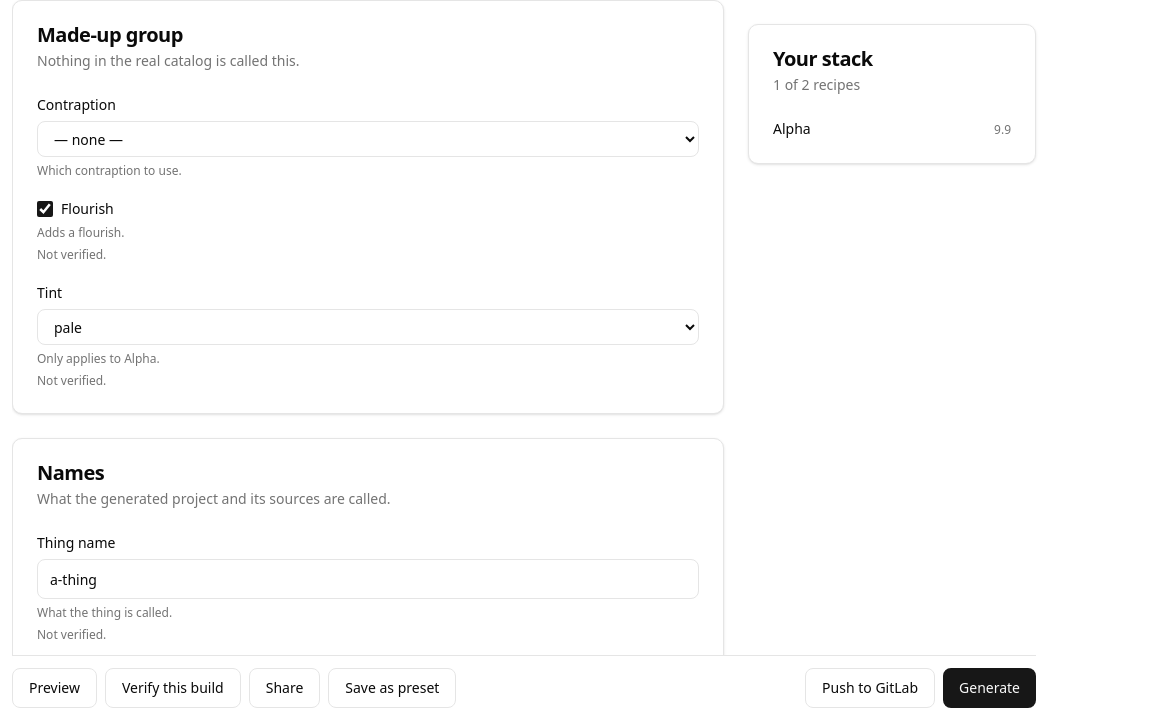
Test case: Wizard › shows the server's hint when a download is refused, rather than failing silently
This screenshot has width=1164, height=720.
Expected: the text "Alpha" is shown, [773,119,811,139]
What coordinates should you click on to do the following:
click the button "Generate"
I would click on:
 (990, 688)
Its box is [943,668,1036,708].
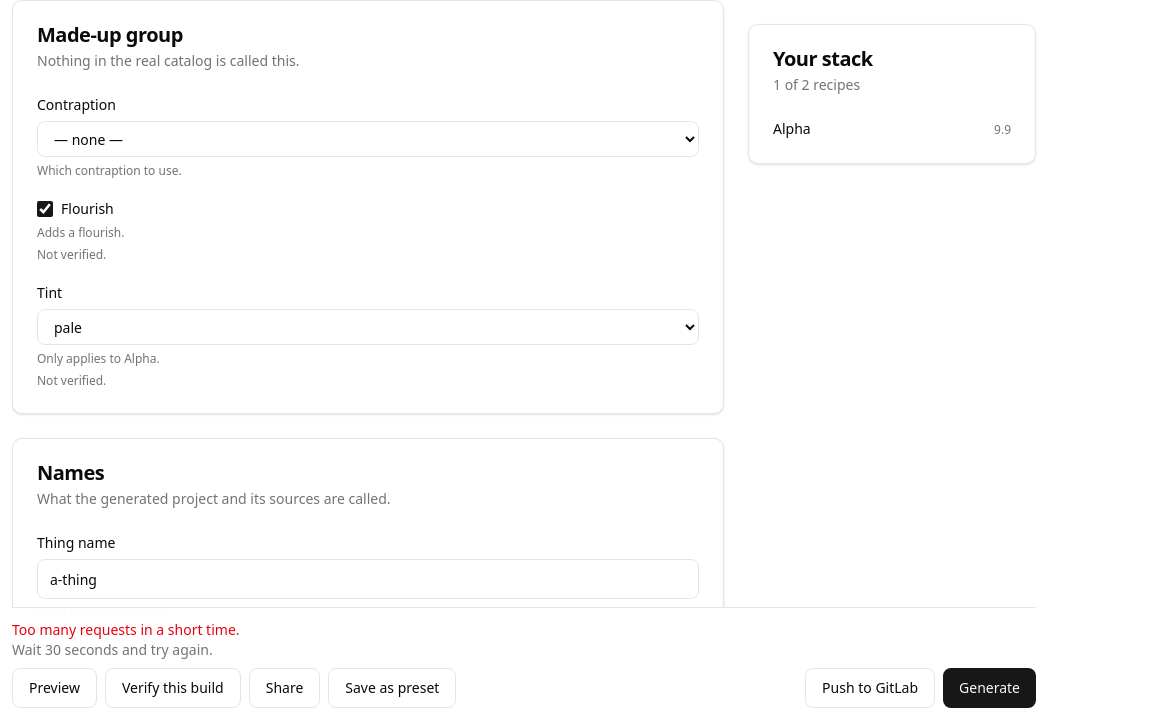
Now the message shows "Wait 30 seconds and try again.", box [12,640,213,659]
